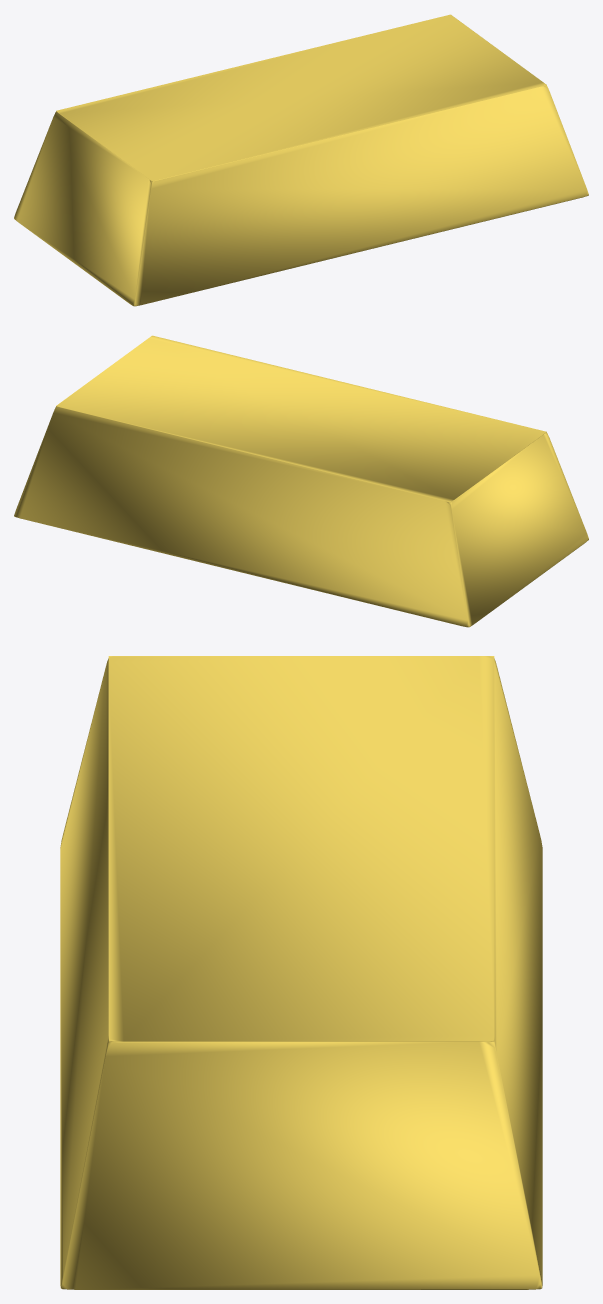
Rendered from gold_bar.glb.
3 views of the same model, one above another, from view 1: azimuth 30°, elevation 25°; view 2: azimuth 150°, elevation 25°; view 3: azimuth 270°, elevation 25° (orthographic). The views are drawn at different scales.
Parts seen in each view (by area): view 1: Gold_Bar; view 2: Gold_Bar; view 3: Gold_Bar.
Boxes of the visible parts, left/top/right/bottom form: Gold_Bar: left=14, top=14, right=588, bottom=306; Gold_Bar: left=14, top=335, right=588, bottom=627; Gold_Bar: left=60, top=656, right=542, bottom=1289.
Bounding box in the file's own units: 2.4 × 0.55 × 1.1.
